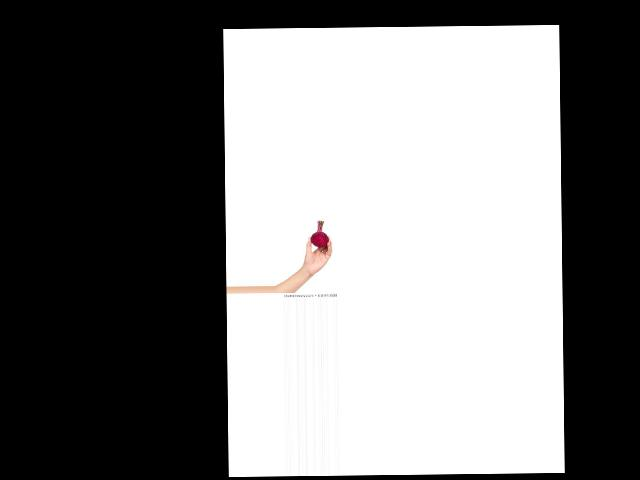beet: (310, 220, 329, 247)
